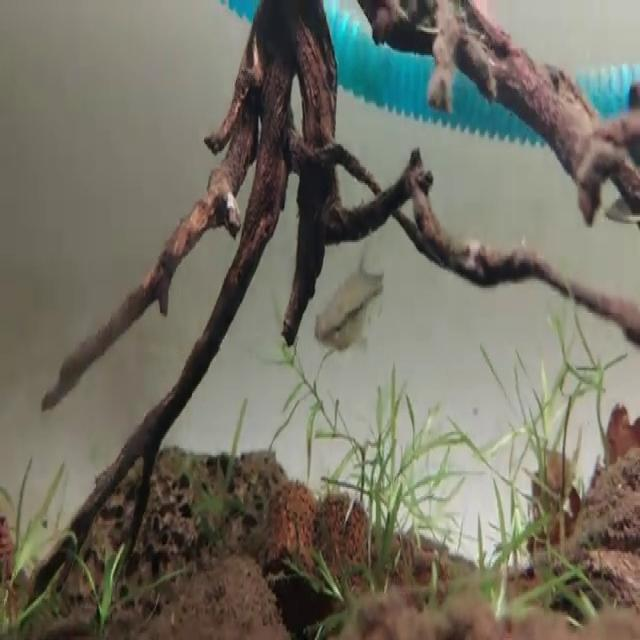Cakil Baligi: (316, 240, 382, 361)
